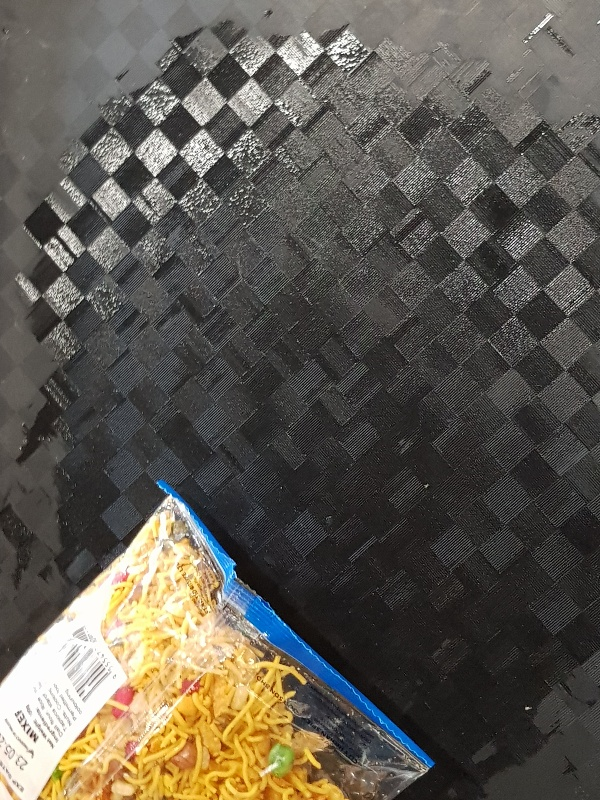Star Tidbits Mixer: (1, 480, 435, 800)
